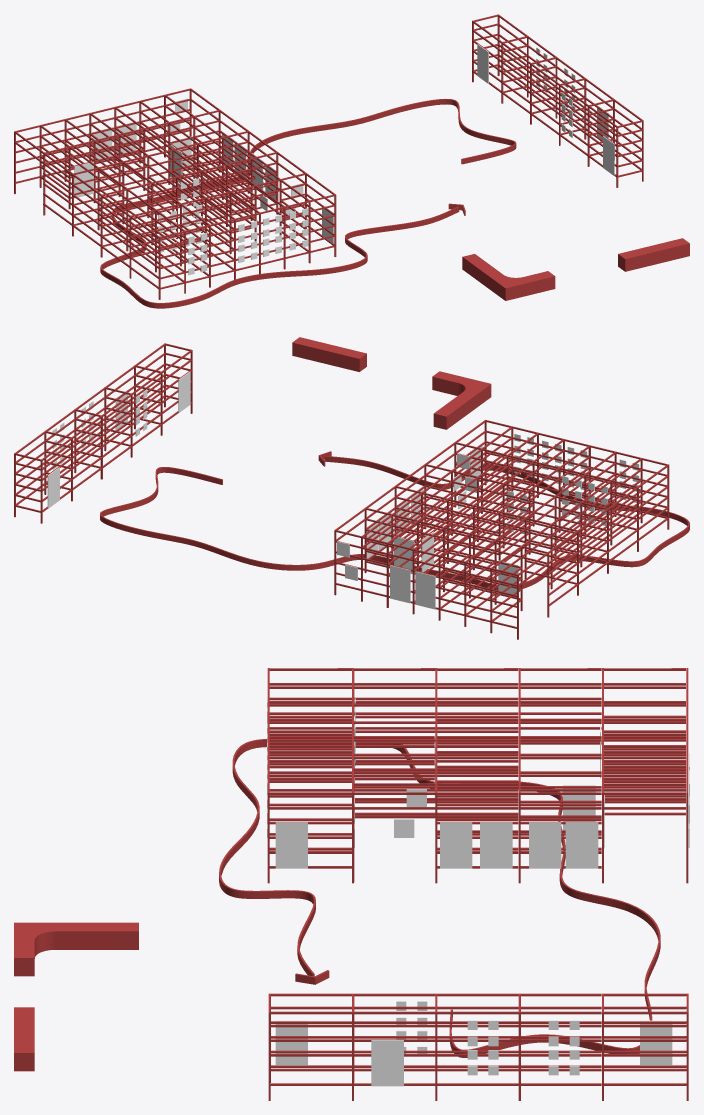
The model's file is mod4.obj.
The picture shows the model from 3 angles, top to bottom: view 1: azimuth 30°, elevation 25°; view 2: azimuth 150°, elevation 25°; view 3: azimuth 270°, elevation 25°; orthographic projection. The views are drawn at different scales.
Visible parts, largest first — view 1: Obj_000664, Obj_000665, Obj_000666, Obj_000481, Obj_000296, Obj_000292, Obj_000294; view 2: Obj_000664, Obj_000665, Obj_000666, Obj_000108, Obj_000482, Obj_000291, Obj_000296, Obj_000295, Obj_000294, Obj_000293, Obj_000292; view 3: Obj_000664, Obj_000665, Obj_000449, Obj_000448, Obj_000447, Obj_000143, Obj_000142, Obj_000031, Obj_000666, Obj_000532, Obj_000531, Obj_000138.
Part boxes in pixels (x1=…): Obj_000664: x1=100, y1=98, x2=516, y2=308; Obj_000665: x1=462, y1=254, x2=555, y2=300; Obj_000666: x1=618, y1=238, x2=689, y2=271; Obj_000481: x1=74, y1=162, x2=93, y2=198; Obj_000296: x1=158, y1=194, x2=336, y2=238; Obj_000292: x1=43, y1=109, x2=220, y2=154; Obj_000294: x1=129, y1=173, x2=306, y2=217; Obj_000664: x1=100, y1=456, x2=689, y2=590; Obj_000665: x1=432, y1=371, x2=491, y2=429; Obj_000666: x1=292, y1=337, x2=366, y2=371; Obj_000108: x1=415, y1=571, x2=435, y2=609; Obj_000482: x1=390, y1=565, x2=410, y2=603; Obj_000291: x1=334, y1=530, x2=518, y2=576; Obj_000296: x1=485, y1=420, x2=669, y2=466; Obj_000295: x1=395, y1=485, x2=579, y2=532; Obj_000294: x1=454, y1=442, x2=638, y2=488; Obj_000293: x1=425, y1=464, x2=608, y2=510; Obj_000292: x1=365, y1=507, x2=549, y2=553; Obj_000664: x1=219, y1=739, x2=660, y2=1057; Obj_000665: x1=14, y1=922, x2=138, y2=976; Obj_000449: x1=565, y1=822, x2=598, y2=868; Obj_000448: x1=480, y1=822, x2=512, y2=868; Obj_000447: x1=275, y1=822, x2=307, y2=868; Obj_000143: x1=440, y1=822, x2=472, y2=868; Obj_000142: x1=529, y1=822, x2=561, y2=868; Obj_000031: x1=371, y1=1040, x2=403, y2=1086; Obj_000666: x1=14, y1=1007, x2=34, y2=1071; Obj_000532: x1=640, y1=1020, x2=672, y2=1065; Obj_000531: x1=275, y1=1020, x2=307, y2=1065; Obj_000138: x1=563, y1=785, x2=595, y2=830.
Size of the model in its own units: 20691 by 2450 by 16641.
